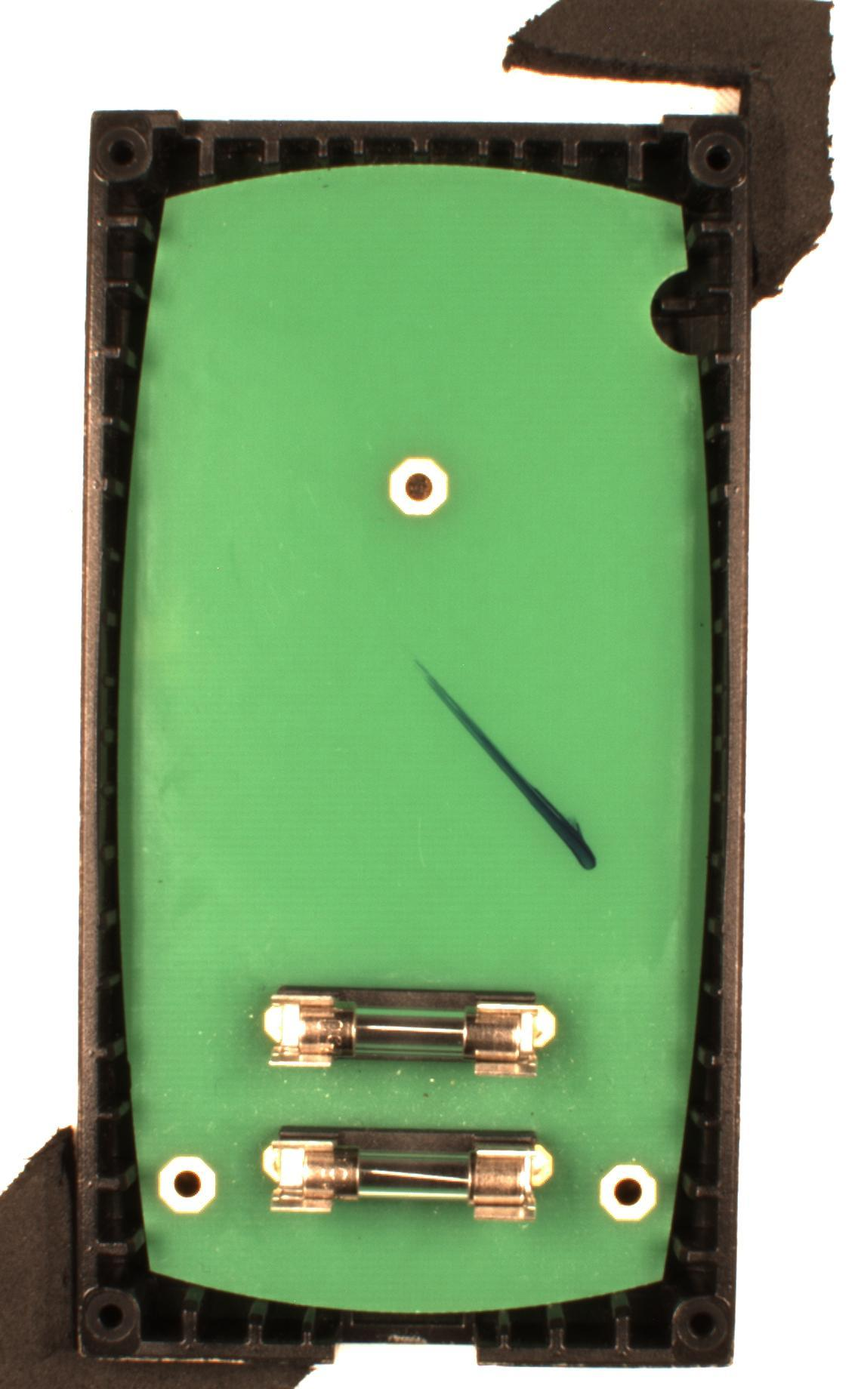Linijsko Ostecene: (403, 653, 603, 874)
